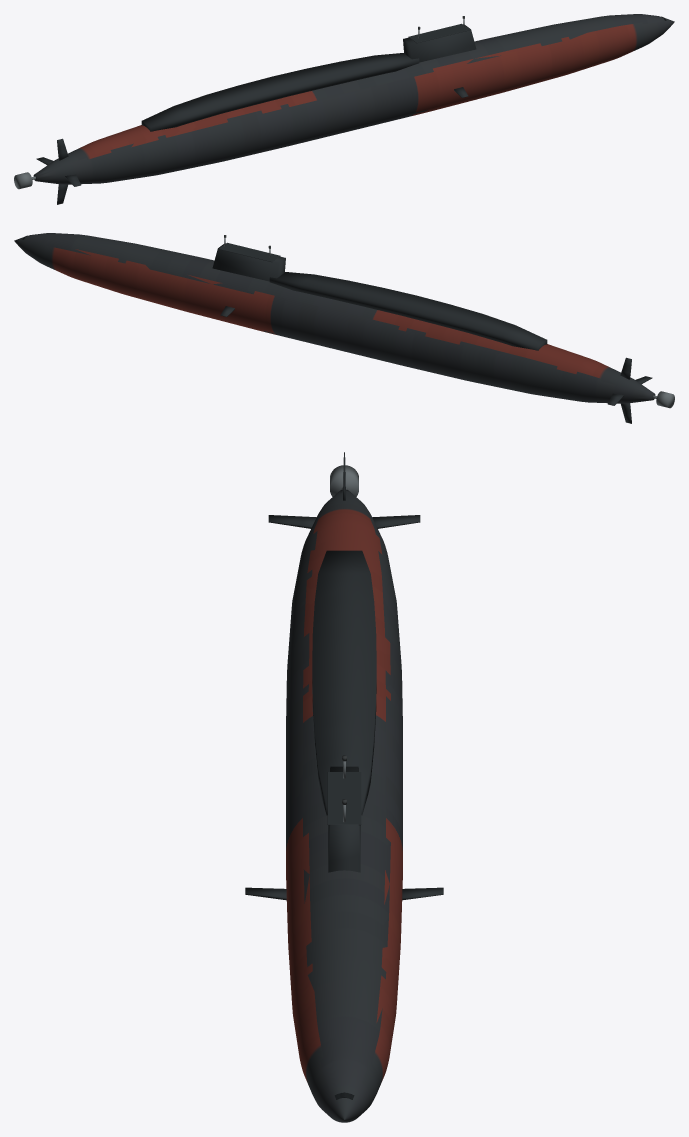
The model's file is RU_SSBN_BoreiA_LOD1.fbx.
3 renders of one model, top to bottom at view 1: azimuth 30°, elevation 25°; view 2: azimuth 150°, elevation 25°; view 3: azimuth 270°, elevation 25°, orthographic. The views are drawn at different scales.
Parts seen in each view (by area): view 1: RU_SSBN_BoreiA_LOD1; view 2: RU_SSBN_BoreiA_LOD1; view 3: RU_SSBN_BoreiA_LOD1.
Boxes of the visible parts, <box> form: RU_SSBN_BoreiA_LOD1: <box>14,14,674,204</box>; RU_SSBN_BoreiA_LOD1: <box>14,233,674,423</box>; RU_SSBN_BoreiA_LOD1: <box>245,452,443,1122</box>.
Size of the model in its own units: 175 by 22.8 by 22.67.
6 materials, 1 textured.
